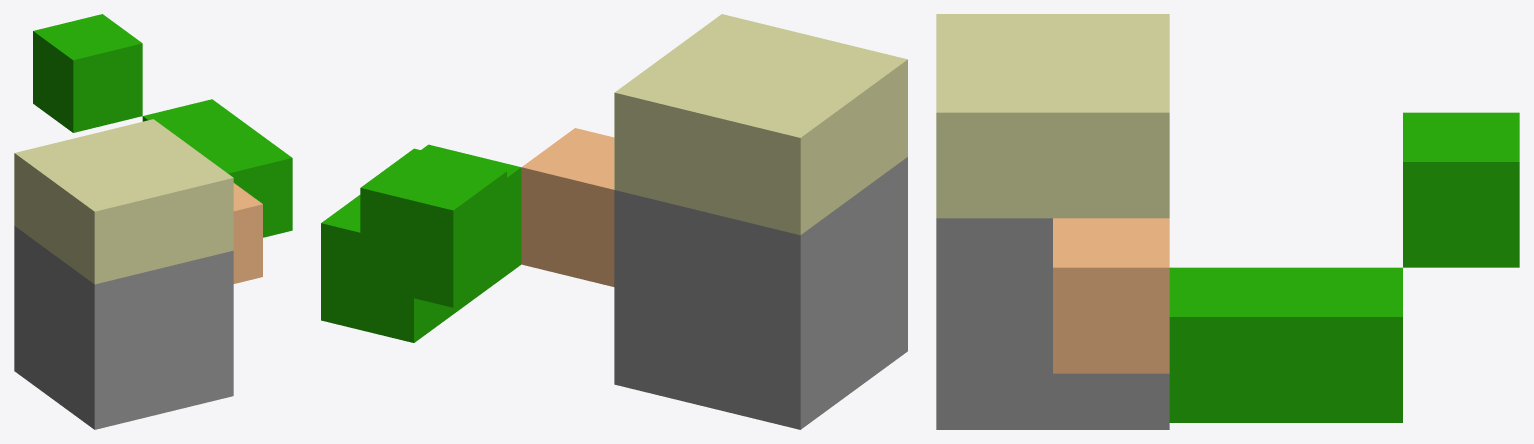
File: scummBarPirateKing02_drinkArm.obj
The picture shows the model from 3 angles, left to right: view 1: azimuth 30°, elevation 25°; view 2: azimuth 150°, elevation 25°; view 3: azimuth 270°, elevation 25°; orthographic projection. The views are drawn at different scales.
Bounding box in the file's own units: 4 × 3 × 5.
Materials: 1 (1 with a texture image).
